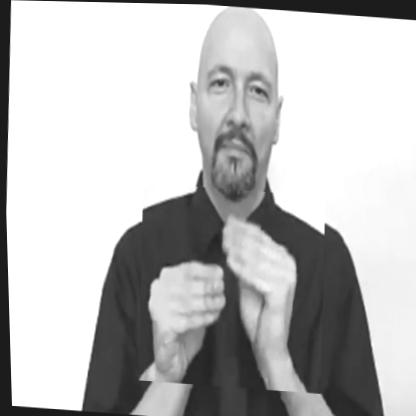Fix: (131, 181, 328, 393)
